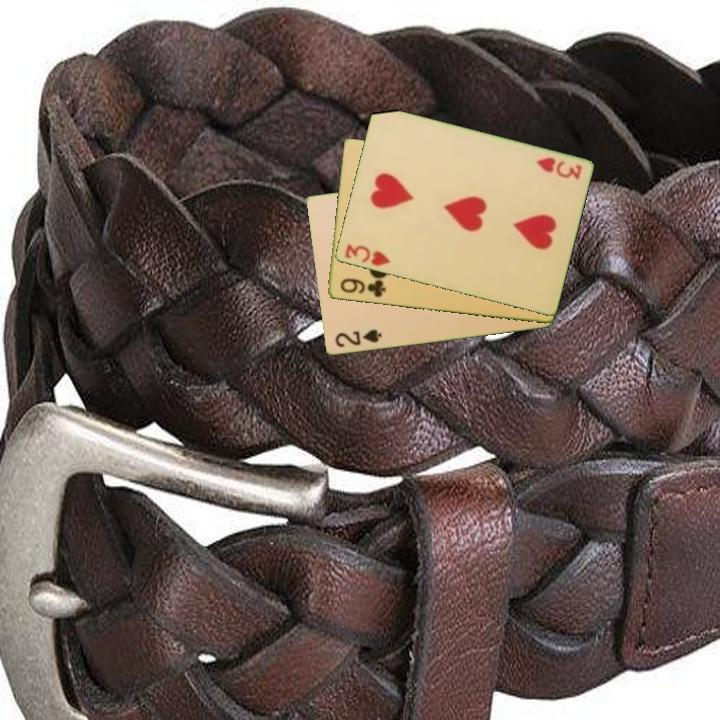2s: (331, 326, 384, 350)
3h: (532, 154, 585, 182), (341, 241, 393, 269)
9c: (336, 275, 389, 301)
